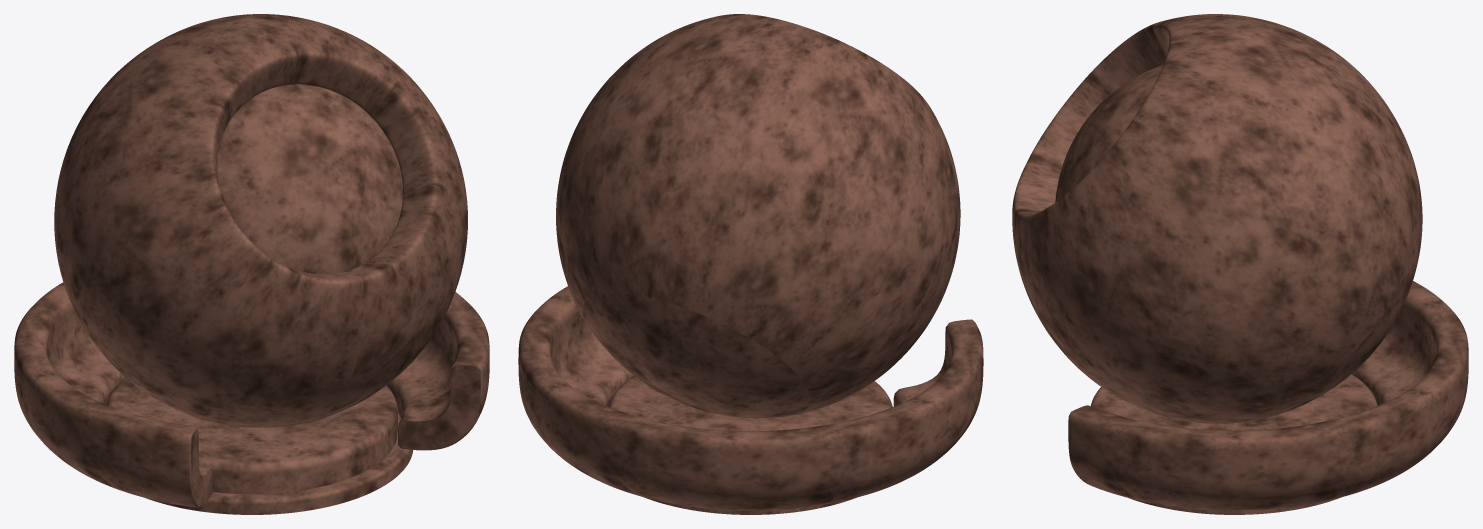
File: Copper_Old.glb
3 views of the same model, side by side, from view 1: azimuth 30°, elevation 25°; view 2: azimuth 150°, elevation 25°; view 3: azimuth 270°, elevation 25° (orthographic). The views are drawn at different scales.
Visible parts, largest first — view 1: Preview_Mesh, Calibration_Mesh; view 2: Preview_Mesh, Calibration_Mesh; view 3: Preview_Mesh, Calibration_Mesh.
Boxes of the visible parts, <box> form: Preview_Mesh: <box>14,14,489,507</box>; Calibration_Mesh: <box>106,84,413,514</box>; Preview_Mesh: <box>518,14,983,510</box>; Calibration_Mesh: <box>609,376,892,514</box>; Preview_Mesh: <box>1012,14,1468,510</box>; Calibration_Mesh: <box>1055,65,1377,514</box>.
Size of the model in its own units: 2.14 by 2.09 by 2.08.
Materials: 1 (1 with a texture image).
